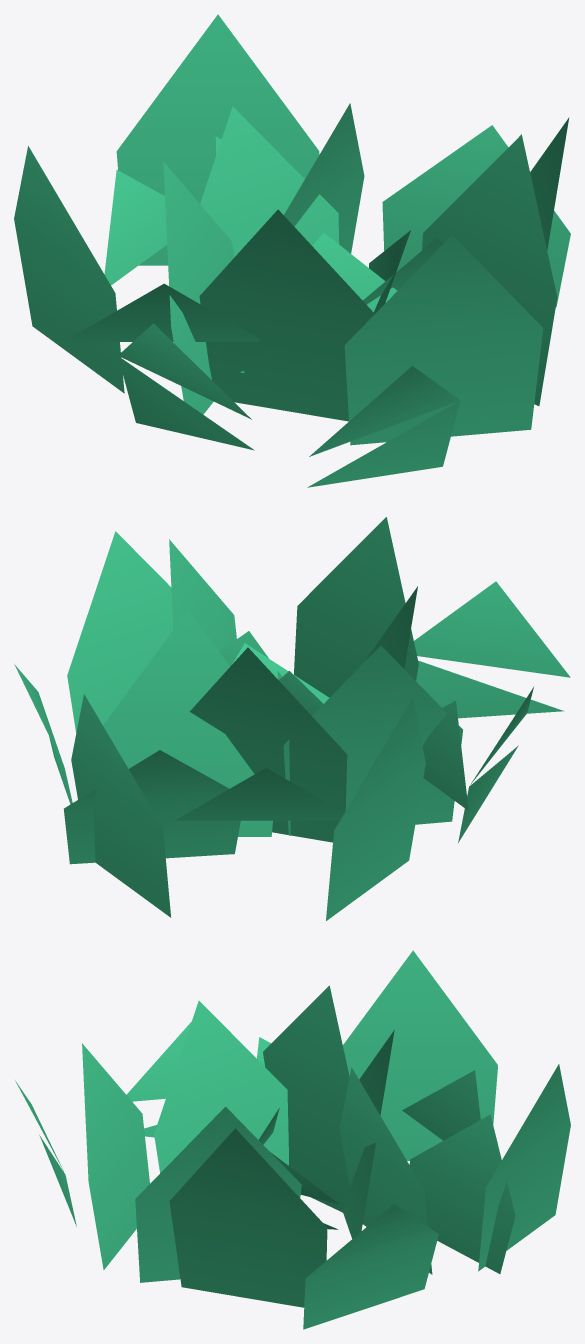
The model's file is Mowed High LOD_085_1.glb.
The picture shows the model from 3 angles, top to bottom: view 1: azimuth 30°, elevation 25°; view 2: azimuth 150°, elevation 25°; view 3: azimuth 270°, elevation 25°; orthographic projection. The views are drawn at different scales.
Visible parts, largest first — view 1: Mowed Grass High LOD; view 2: Mowed Grass High LOD; view 3: Mowed Grass High LOD.
Boxes of the visible parts, x1,y1,x2,y2 form: Mowed Grass High LOD: [14, 14, 570, 487]; Mowed Grass High LOD: [14, 517, 570, 920]; Mowed Grass High LOD: [15, 950, 570, 1329].
Bounding box in the file's own units: 0.4313 × 0.19 × 0.5044.
